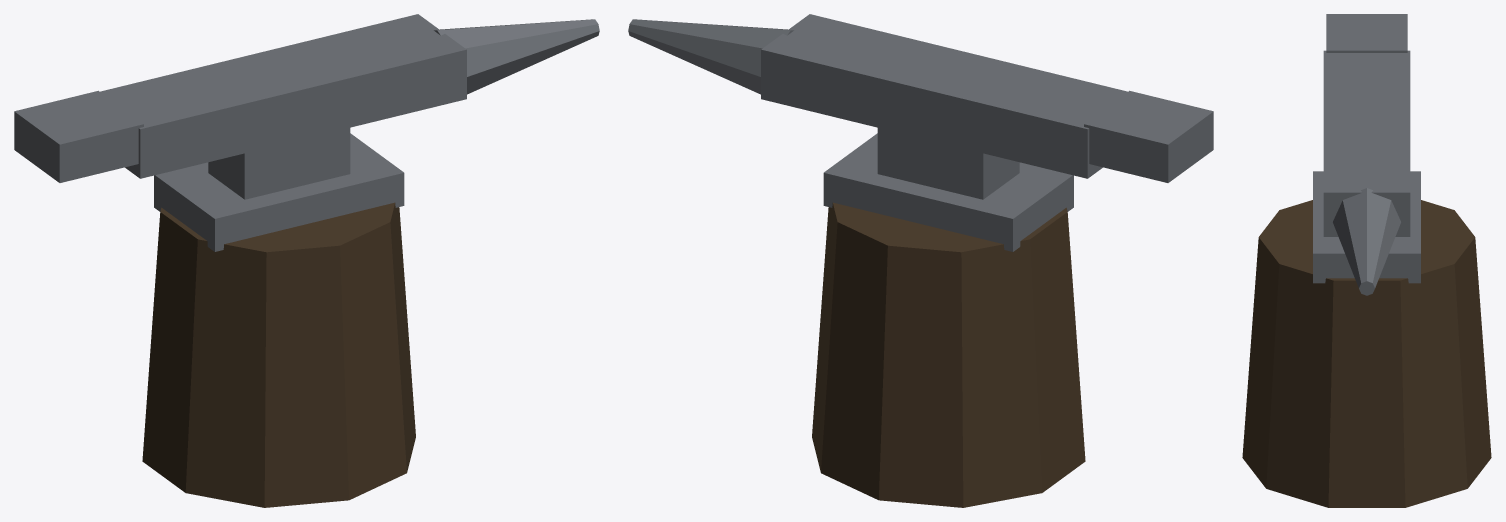
Rendered from MarketAnvil.fbx.
3 renders of one model, left to right at view 1: azimuth 30°, elevation 25°; view 2: azimuth 150°, elevation 25°; view 3: azimuth 270°, elevation 25°, orthographic. The views are drawn at different scales.
Parts seen in each view (by area): view 1: MarketAnvil; view 2: MarketAnvil; view 3: MarketAnvil.
Part boxes in pixels (left/top/right/bottom): MarketAnvil: left=14, top=14, right=599, bottom=507; MarketAnvil: left=628, top=14, right=1213, bottom=507; MarketAnvil: left=1242, top=14, right=1491, bottom=507.
Bounding box in the file's own units: 106 × 69 × 46.
2 materials, 2 textured.
